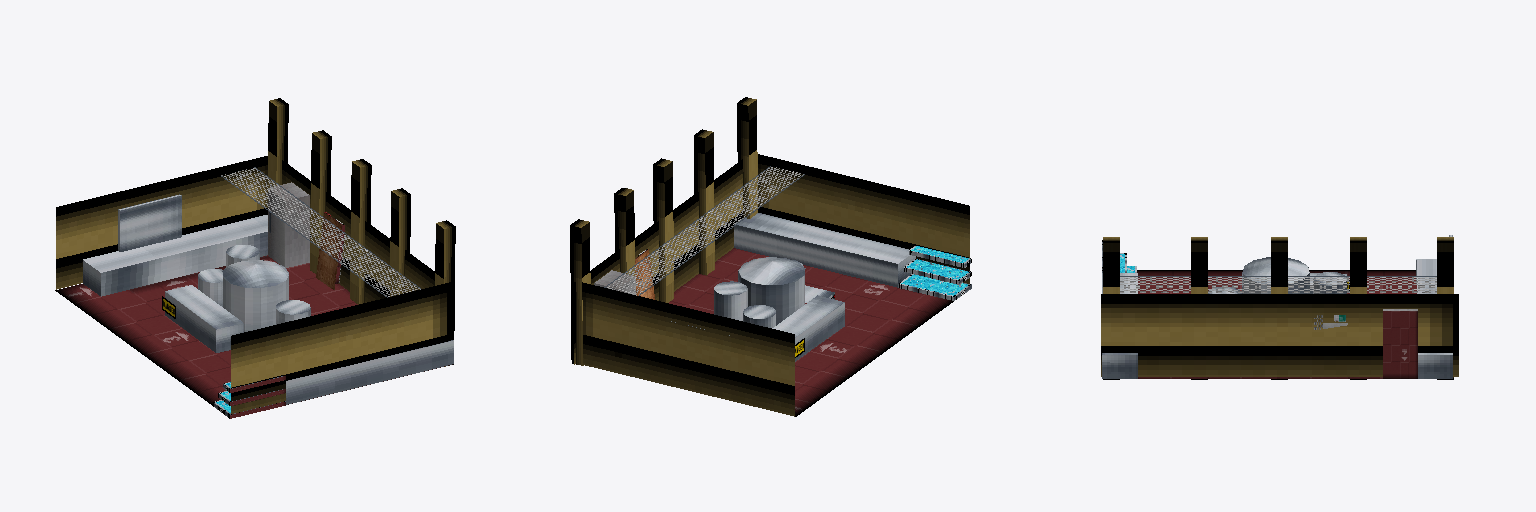
3 renders of one model, left to right at view 1: azimuth 30°, elevation 25°; view 2: azimuth 150°, elevation 25°; view 3: azimuth 270°, elevation 25°, orthographic.
Visible parts, largest first — view 1: Plane.002, Cube.016, Plane, Cube.004, Cone, Plane.001, Cube.014, Cube, Cylinder.001, Cube.013, Cube.020, Cube.011; view 2: Plane.002, Plane, Cube.004, Cube.016, Cone, Plane.001, Cube.020, Cylinder.001; view 3: Plane.002, Cube.004, Cube.016, Plane, Cube, Plane.001, Cone.
Part boxes in pixels (x1,y1,x2,y2): Plane.002: (56,156,450,413); Cube.016: (83,215,453,404); Plane: (55,255,452,405); Cube.004: (268,98,455,366); Cone: (222,260,288,331); Plane.001: (221,167,420,297); Cube.014: (118,194,181,251); Cube: (268,182,309,267); Cylinder.001: (198,245,259,306); Cube.013: (316,212,344,289); Cube.020: (213,376,285,418); Cube.011: (276,300,310,324); Plane.002: (574,154,969,416); Plane: (669,248,953,416); Cube.004: (570,97,757,365); Cube.016: (734,213,915,361); Cone: (738,257,805,325); Plane.001: (604,166,804,295); Cube.020: (898,245,971,300); Cylinder.001: (714,281,775,327); Plane.002: (1101,294,1458,376); Cube.004: (1103,237,1453,379); Cube.016: (1102,259,1452,378); Plane: (1137,270,1416,378); Cube: (1383,309,1417,378); Plane.001: (1120,276,1436,292); Cone: (1242,257,1309,293).
Size of the model in its own units: 3.03 by 1.87 by 4.08.
2 materials, 1 textured.